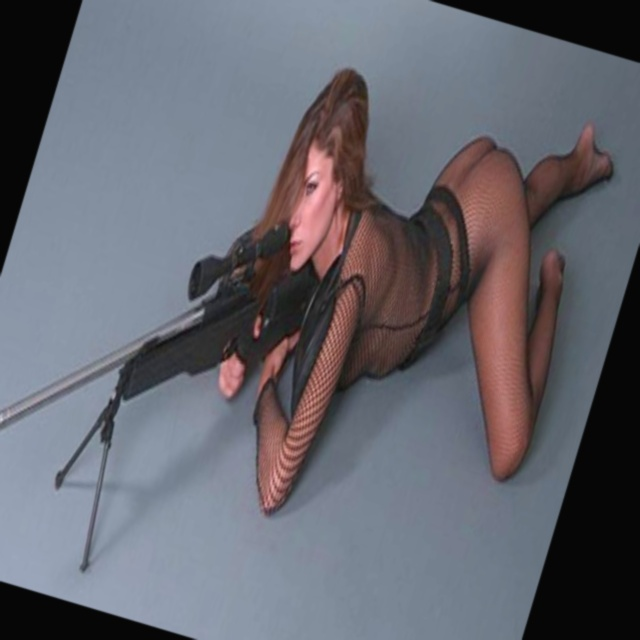gun: (0, 148, 339, 620)
